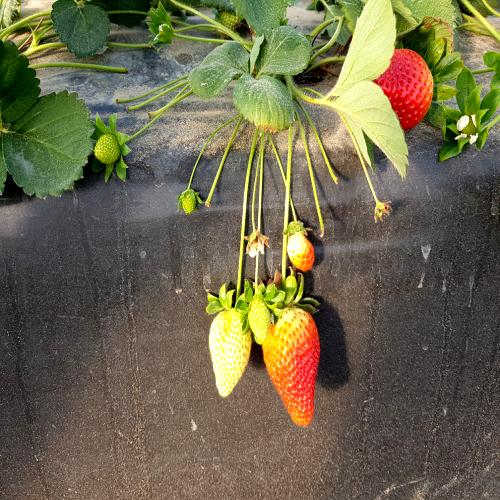partially-ripe: (265, 302, 326, 434)
unripe: (202, 284, 255, 414)
